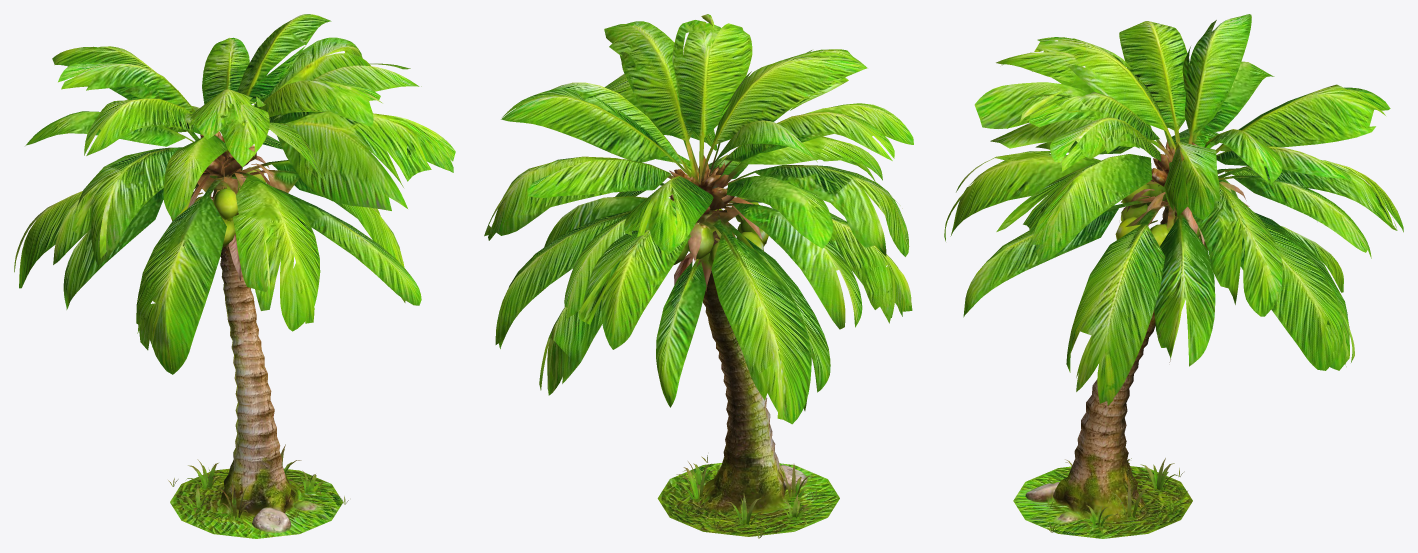
The model's file is pohon-1.glb.
3 renders of one model, left to right at view 1: azimuth 30°, elevation 25°; view 2: azimuth 150°, elevation 25°; view 3: azimuth 270°, elevation 25°, orthographic. The views are drawn at different scales.
Visible parts, largest first — view 1: pohon; view 2: pohon; view 3: pohon.
Part boxes in pixels (box(x1,y1,x2,y2)): pohon: box(14, 14, 455, 538); pohon: box(484, 14, 913, 538); pohon: box(944, 14, 1403, 538).
Size of the model in its own units: 0.8442 by 0.9995 by 0.9438.
Materials: 1 (1 with a texture image).
